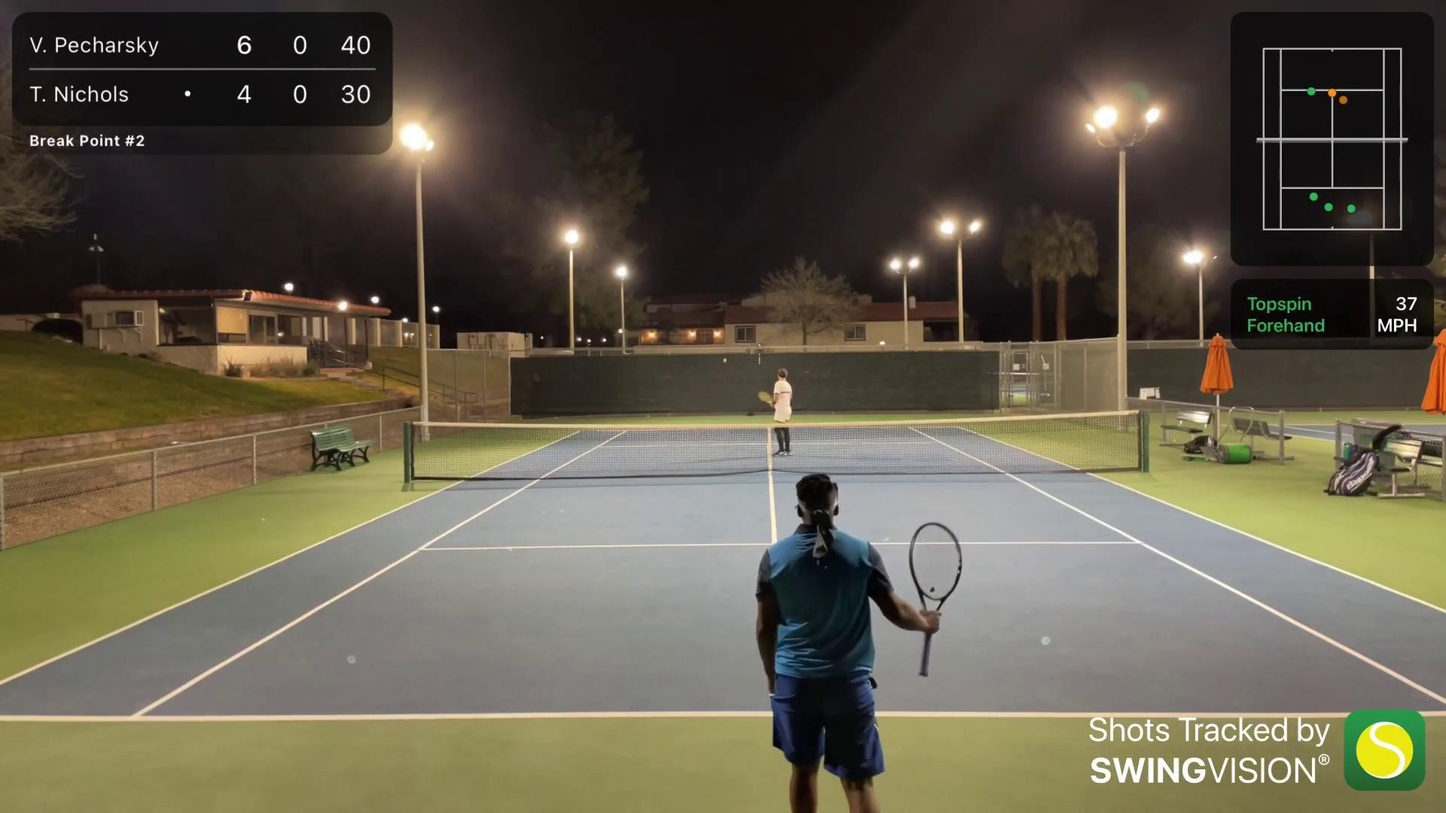ball: (723, 357, 726, 362)
